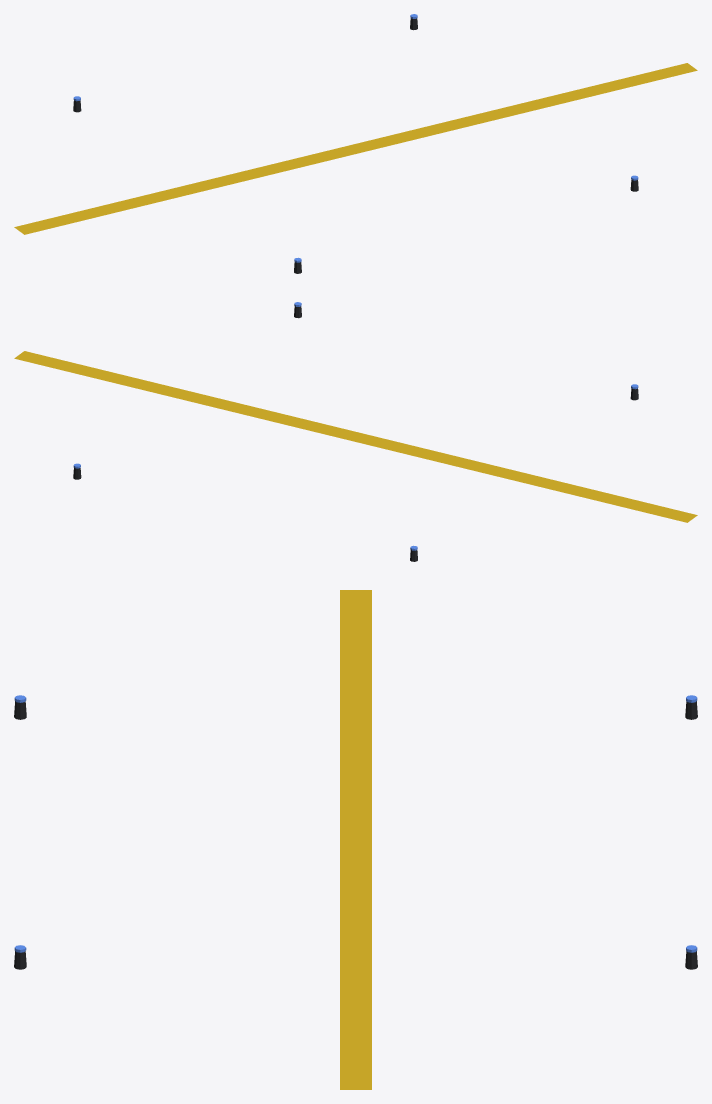
File: let_cara.glb
The picture shows the model from 3 angles, top to bottom: view 1: azimuth 30°, elevation 25°; view 2: azimuth 150°, elevation 25°; view 3: azimuth 270°, elevation 25°; orthographic projection. The views are drawn at different scales.
Parts seen in each view (by area): view 1: dum; view 2: dum; view 3: dum.
Boxes of the visible parts, x1=… form: dum: x1=14, y1=18, x2=697, y2=273; dum: x1=14, y1=306, x2=697, y2=561; dum: x1=14, y1=590, x2=697, y2=1089.
Bounding box in the file's own units: 14.8 × 0.2701 × 8.56.
Materials: 1 (1 with a texture image).
